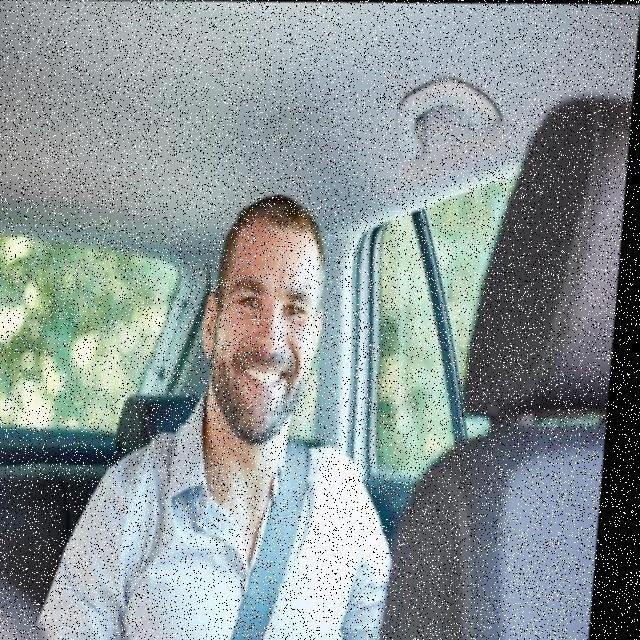seatbelt: (60, 373, 401, 640)
